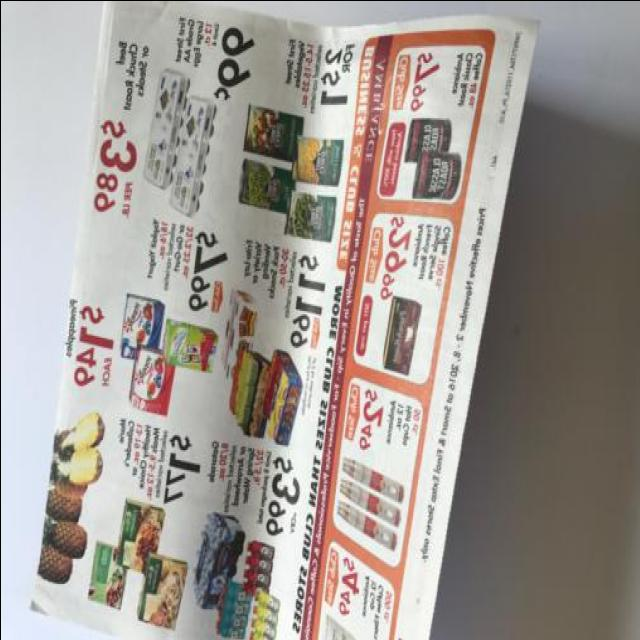kertas: (24, 0, 543, 640)
